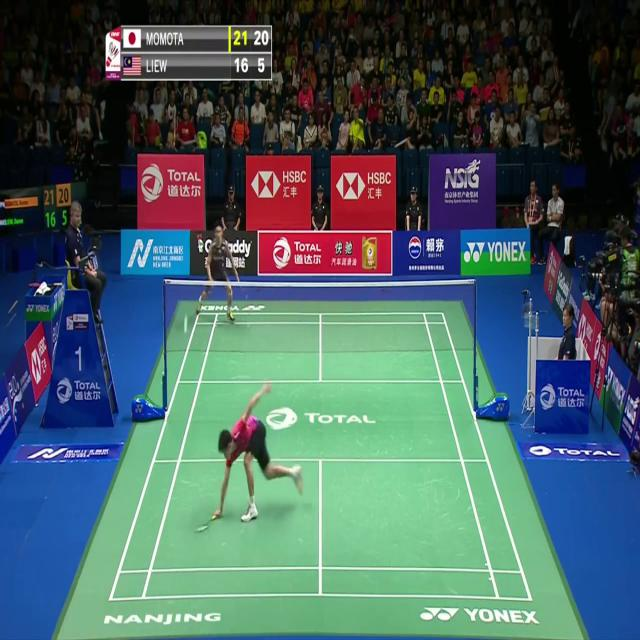Shuttlecock: (182, 318, 189, 329)
